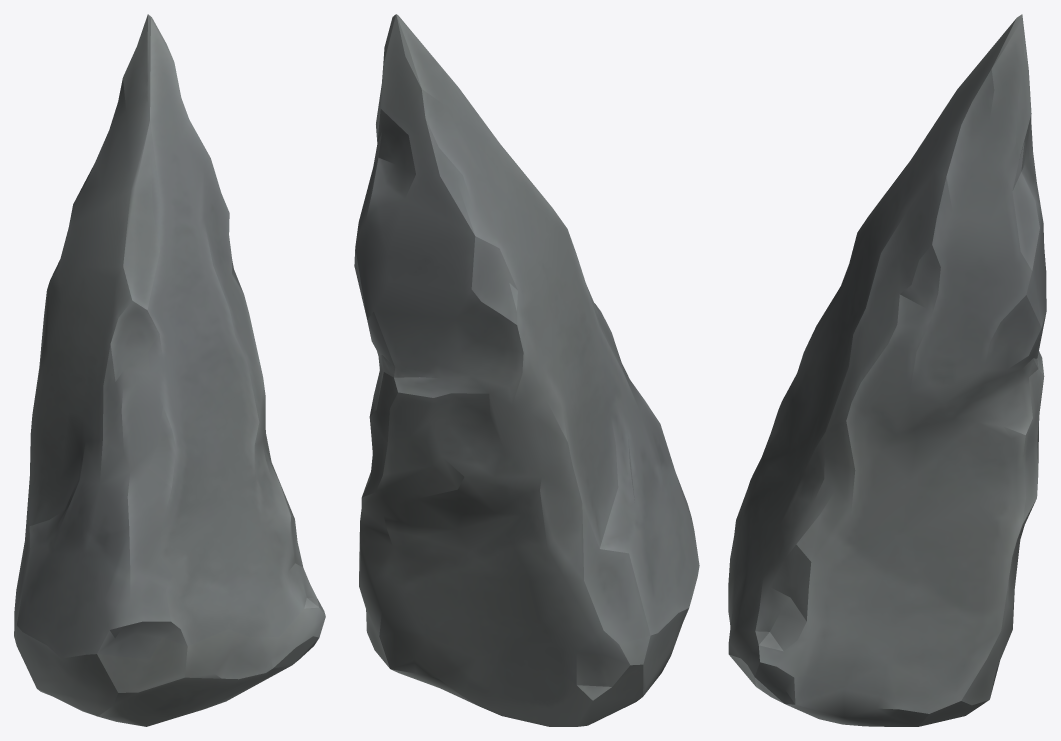
File: GrayRockType3.fbx
The picture shows the model from 3 angles, left to right: view 1: azimuth 30°, elevation 25°; view 2: azimuth 150°, elevation 25°; view 3: azimuth 270°, elevation 25°; orthographic projection. The views are drawn at different scales.
Parts seen in each view (by area): view 1: Rock_Sharp1 (4); view 2: Rock_Sharp1 (4); view 3: Rock_Sharp1 (4).
Part boxes in pixels (box(x1,y1,x2,y2)): Rock_Sharp1 (4): box(14, 14, 325, 726); Rock_Sharp1 (4): box(354, 14, 699, 726); Rock_Sharp1 (4): box(728, 14, 1046, 726).
Bounding box in the file's own units: 10.28 × 24.92 × 9.9.
